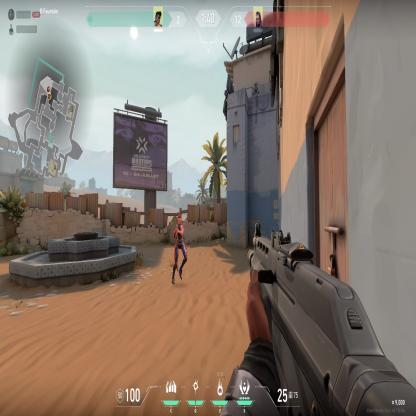enemy: (171, 213, 188, 287)
